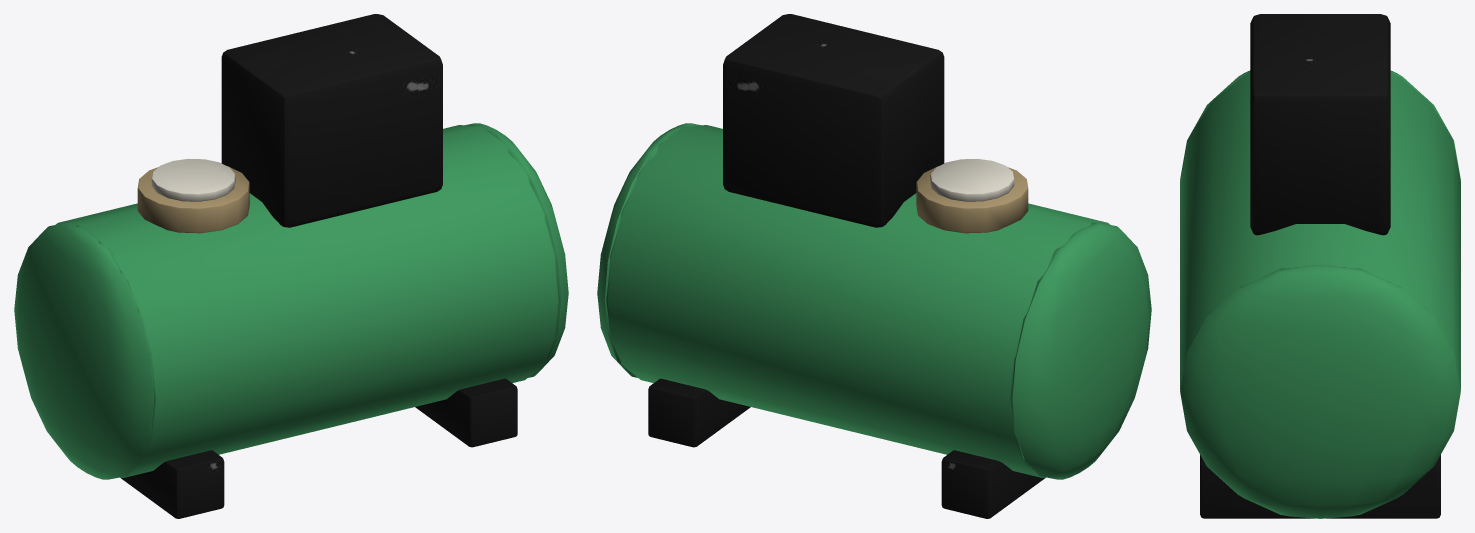
File: compressor.glb
3 renders of one model, left to right at view 1: azimuth 30°, elevation 25°; view 2: azimuth 150°, elevation 25°; view 3: azimuth 270°, elevation 25°, orthographic. The views are drawn at different scales.
Parts seen in each view (by area): view 1: boat_paint_green, boat_iron, boat_brass, boat_dial; view 2: boat_paint_green, boat_iron, boat_brass, boat_dial; view 3: boat_paint_green, boat_iron.
Part boxes in pixels (x1,y1,x2,y2): boat_paint_green: (14,123,568,479); boat_iron: (120,14,517,518); boat_brass: (137,166,249,233); boat_dial: (151,158,235,201); boat_paint_green: (597,123,1151,479); boat_iron: (648,14,1045,518); boat_brass: (916,166,1028,233); boat_dial: (930,158,1014,201); boat_paint_green: (1180,70,1460,518); boat_iron: (1200,14,1440,518).
Bounding box in the file's own units: 0.58 × 0.44 × 0.28.
Materials: 4 (1 with a texture image).
